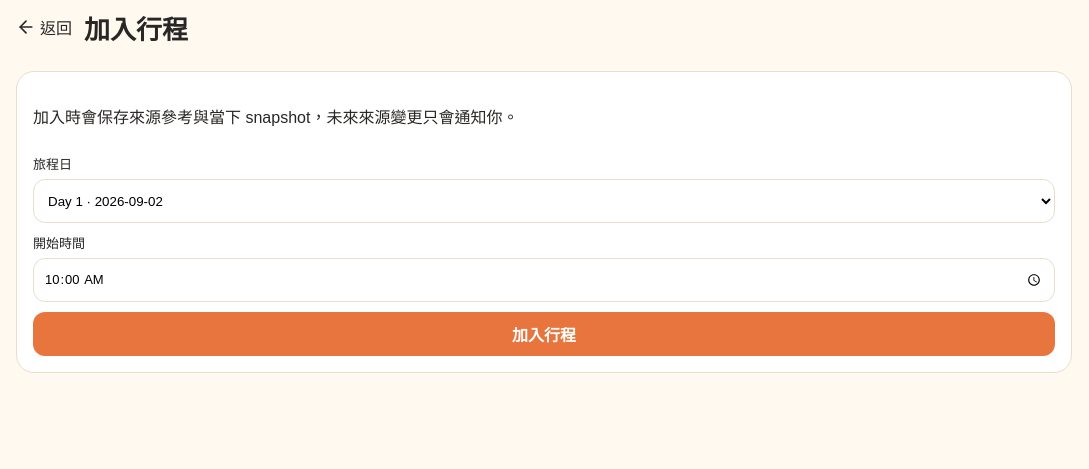
M2 discovery interactions › shows success after an event is added through the RPC
The width and height of the screenshot is (1089, 469).
Click the button "加入行程".
click(544, 334)  # box 33,312 -> 1055,356
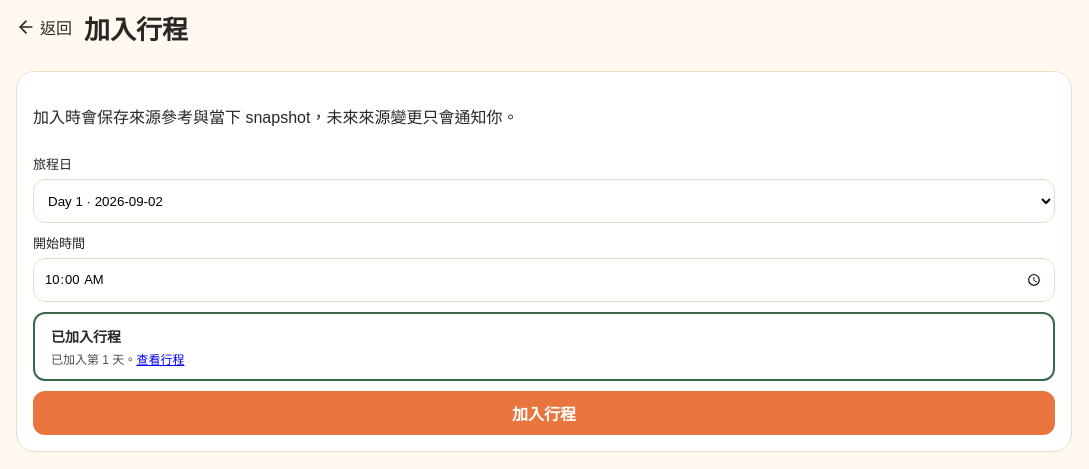
Expected: the text "已加入行程" is shown, 51,329 -> 121,345
